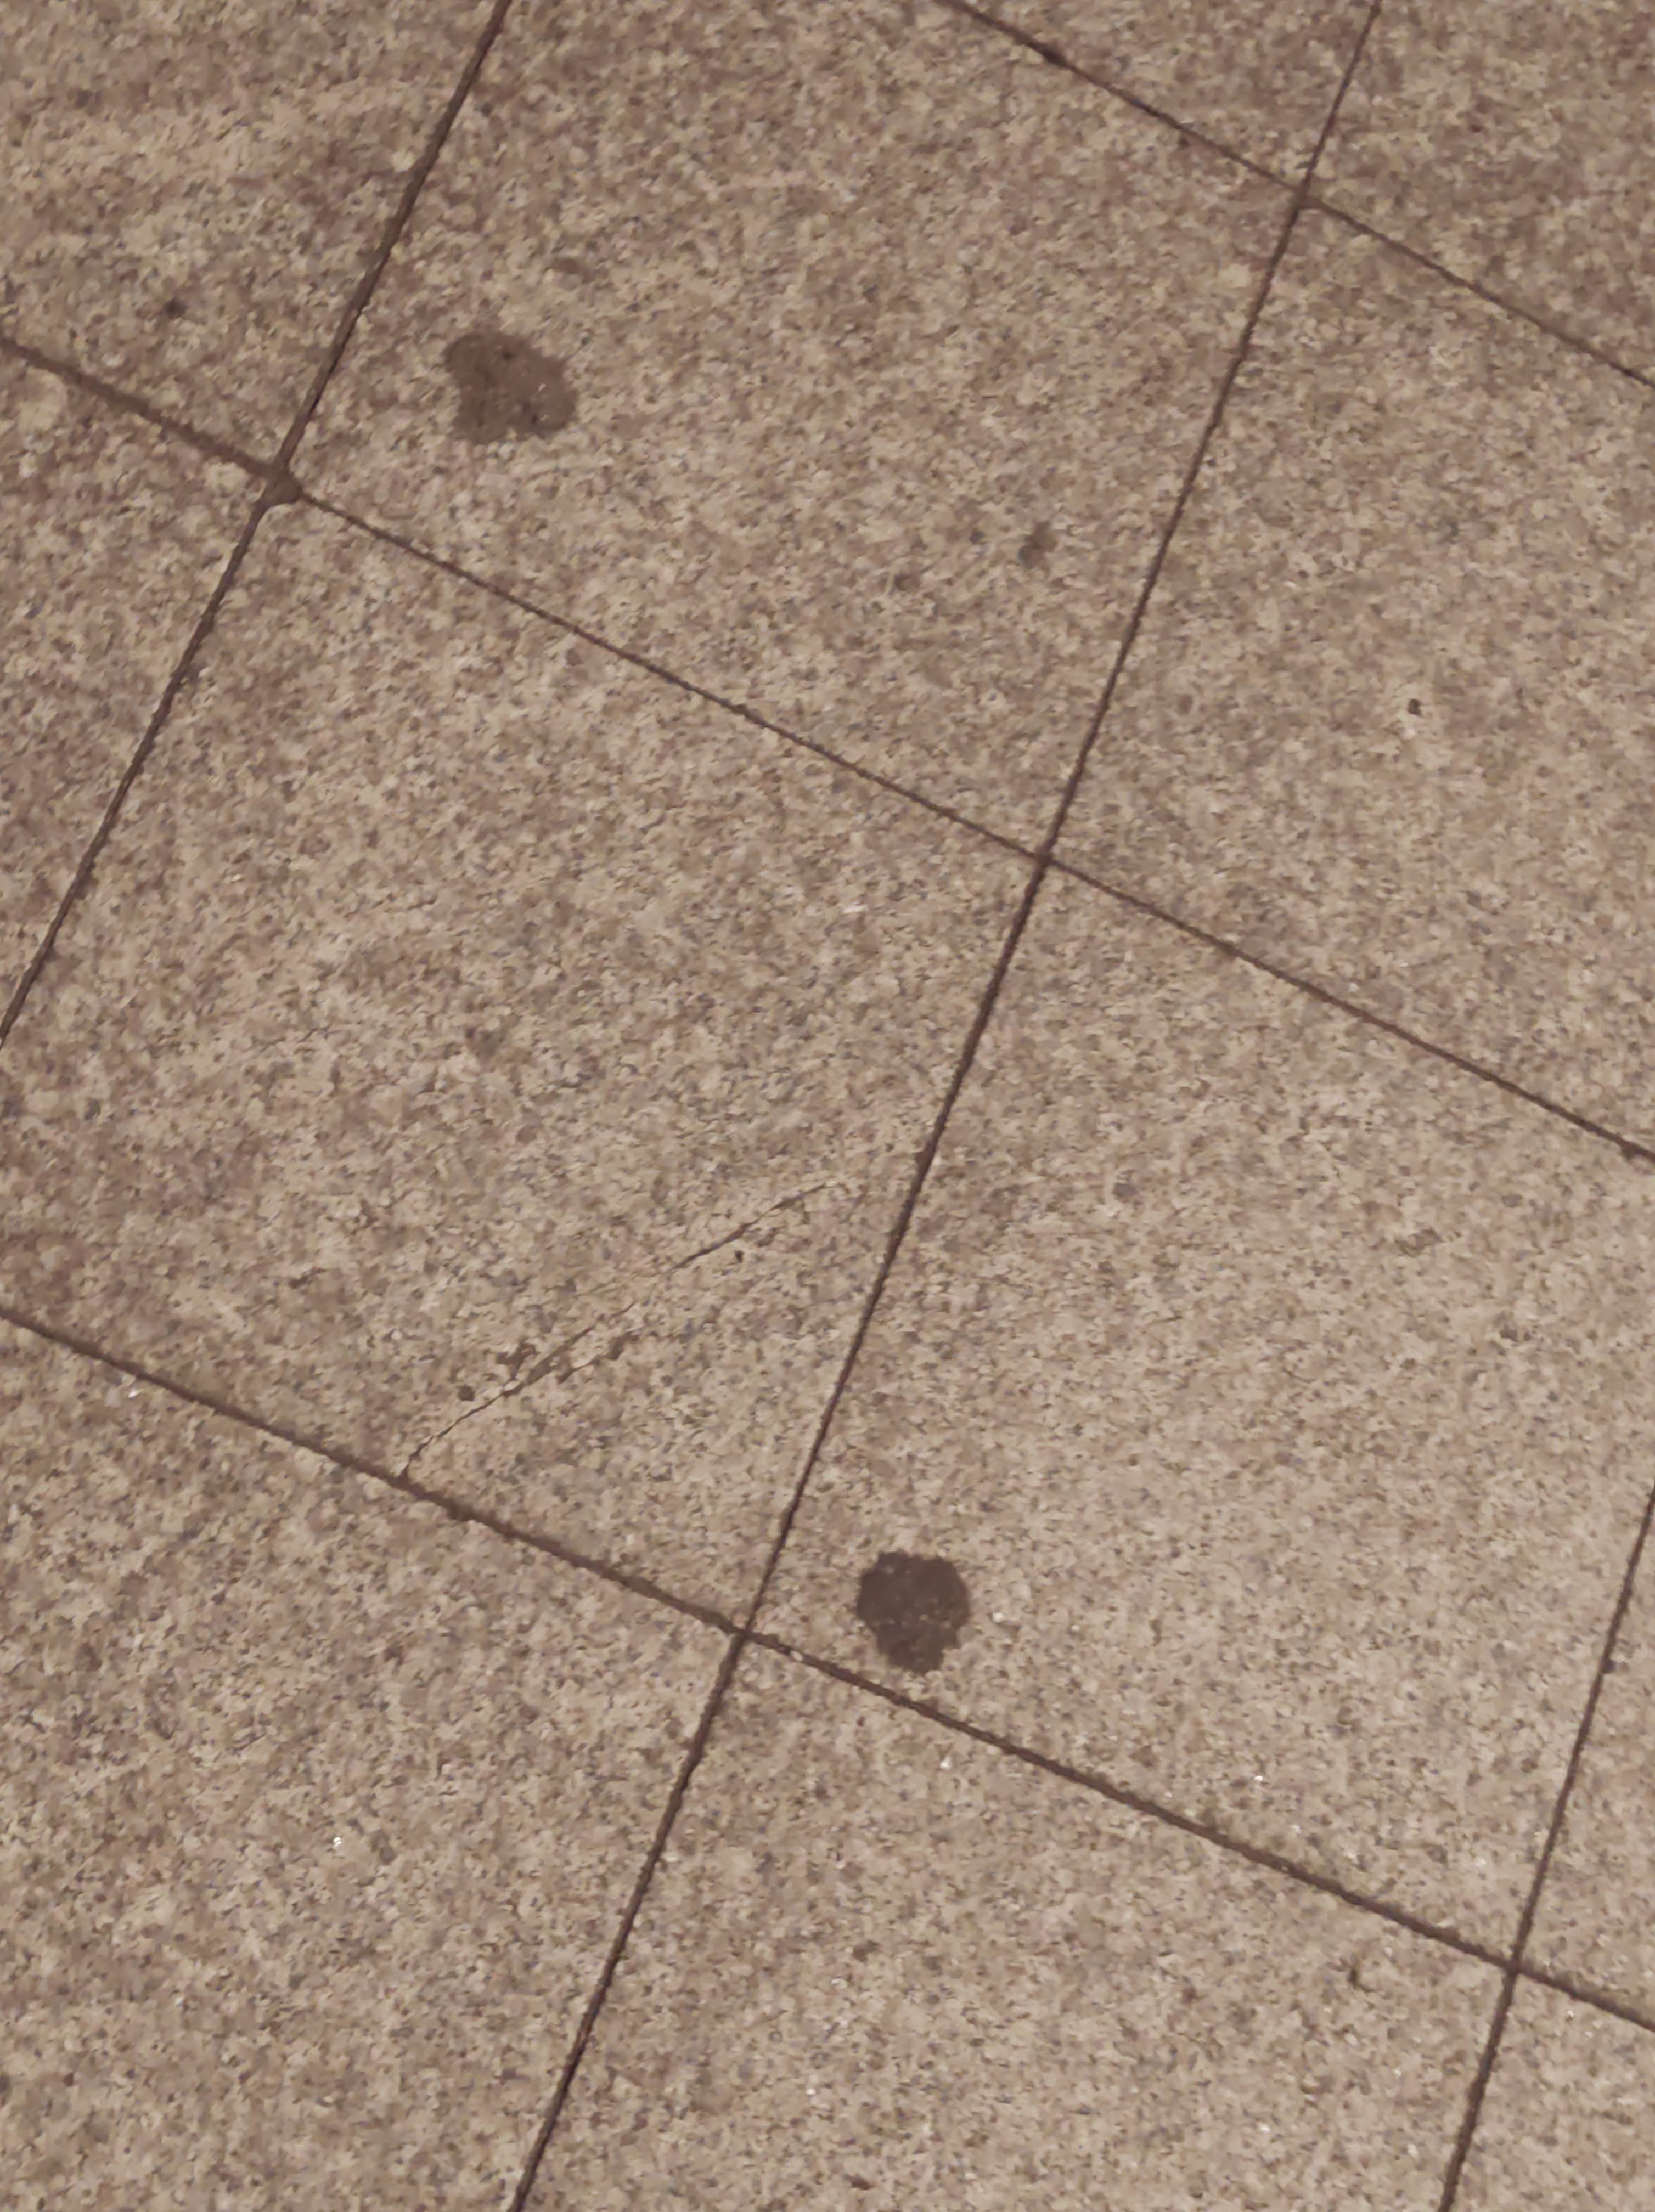grey spot: (855, 1550, 977, 1677), (442, 328, 579, 440)
